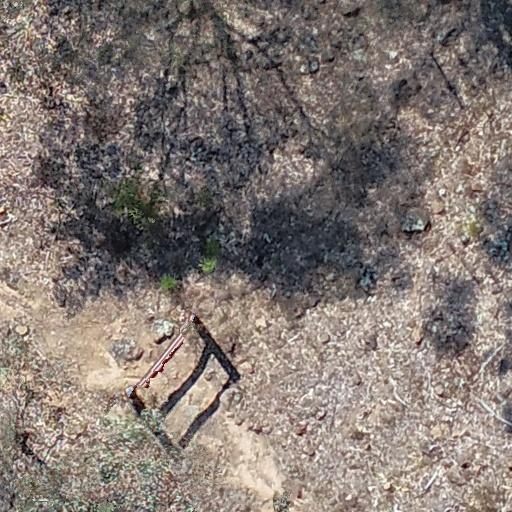stone: (176, 0, 194, 18), (341, 4, 361, 16), (244, 31, 266, 41), (263, 58, 282, 69), (237, 362, 254, 373), (321, 50, 334, 63), (294, 424, 308, 436), (232, 355, 246, 366), (267, 23, 280, 34), (276, 31, 287, 43), (309, 60, 319, 73), (316, 410, 328, 419), (252, 422, 261, 433), (304, 446, 315, 455), (320, 333, 331, 342), (262, 425, 272, 434), (383, 482, 393, 491), (234, 418, 244, 426), (205, 370, 212, 380), (225, 411, 234, 417), (247, 421, 254, 428)
